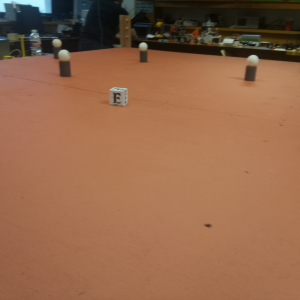blockE: (110, 86, 129, 106)
corner: (120, 15, 131, 49)
obstacle: (245, 56, 260, 84), (57, 52, 73, 78), (139, 44, 149, 63), (54, 40, 62, 59)
